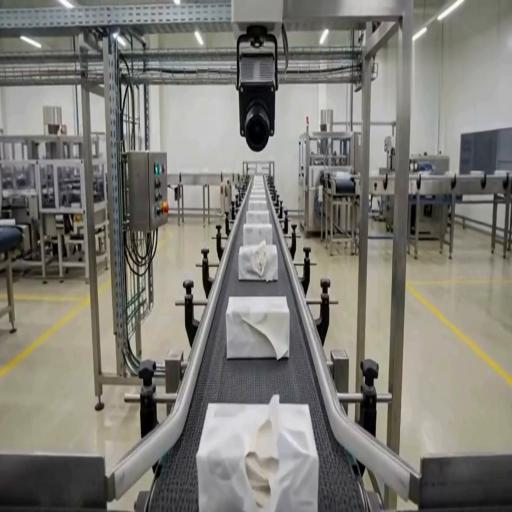defective: (199, 396, 315, 510), (225, 296, 290, 359), (237, 241, 279, 282)
good: (244, 223, 272, 245), (245, 205, 270, 227), (248, 181, 268, 198), (247, 196, 269, 211)
